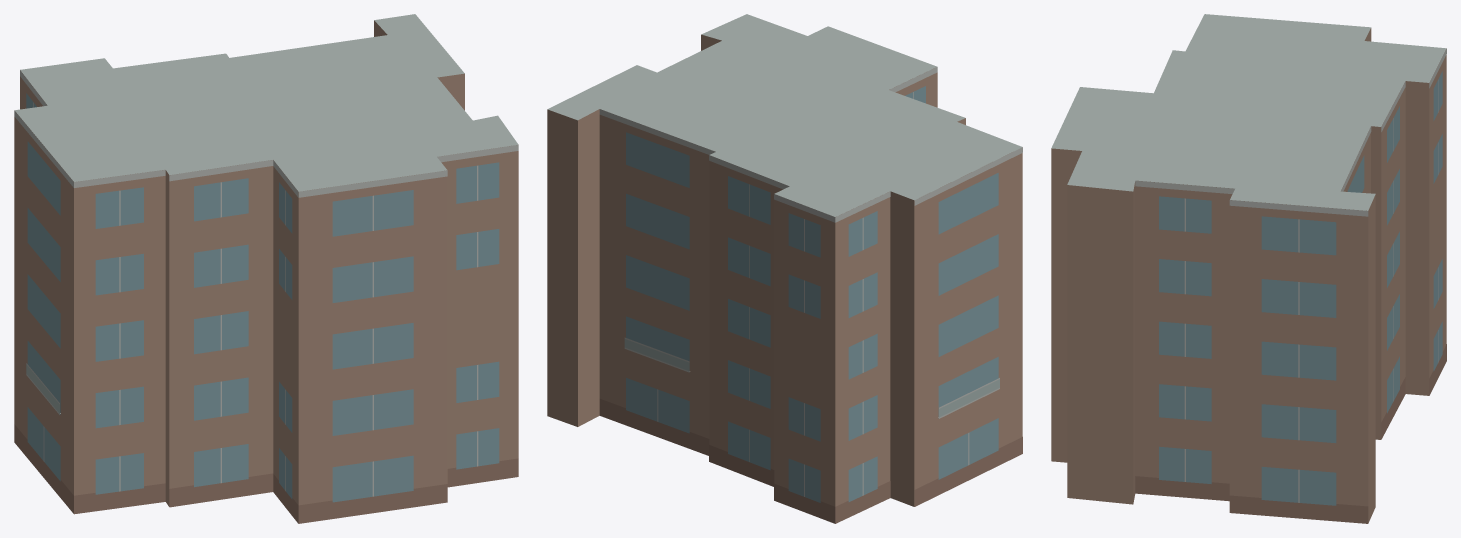
The model's file is survey-upis-32719375.glb.
3 views of the same model, side by side, from view 1: azimuth 30°, elevation 25°; view 2: azimuth 150°, elevation 25°; view 3: azimuth 270°, elevation 25° (orthographic). The views are drawn at different scales.
Parts seen in each view (by area): view 1: survey-upis-32719375.tmp; view 2: survey-upis-32719375.tmp; view 3: survey-upis-32719375.tmp.
Boxes of the visible parts, x1,y1,x2,y2 form: survey-upis-32719375.tmp: (14, 14, 518, 523); survey-upis-32719375.tmp: (547, 14, 1022, 523); survey-upis-32719375.tmp: (1051, 14, 1446, 523).
Size of the model in its own units: 17.82 by 13.2 by 15.13.
